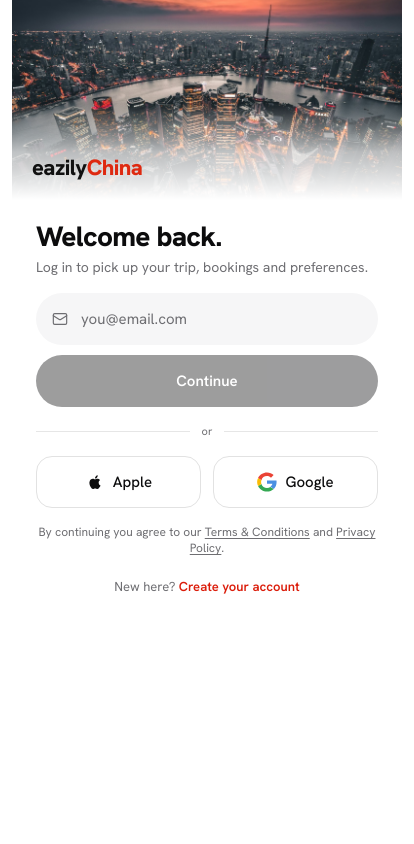
Test: social sign-in › starts managed Apple sign-in on the web and navigates after the session is saved
Click the button "Apple" at (118, 482), box 36,456 -> 201,508
(page scrolled)
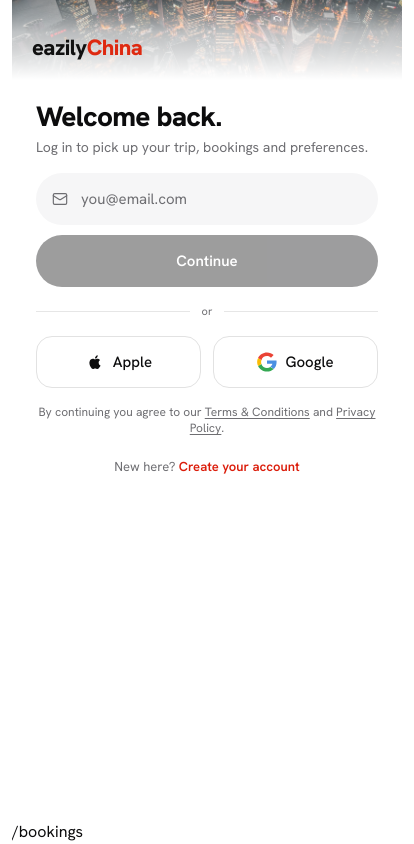
Expected: the text with test id "route" reads "/bookings", 12,821 -> 83,842
